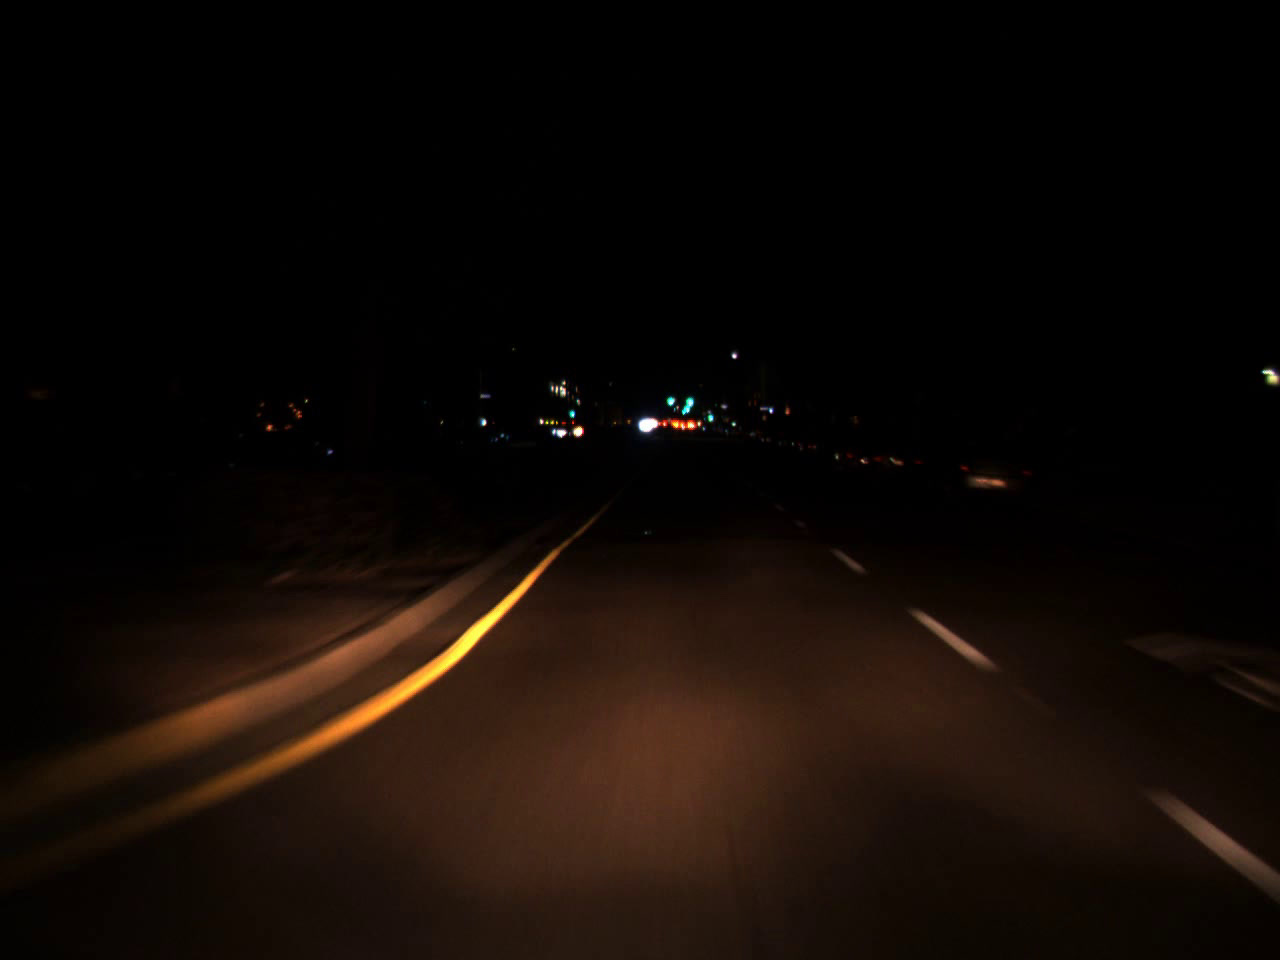go: (679, 383, 695, 413), (664, 387, 674, 408), (568, 403, 575, 418), (706, 408, 713, 423)
